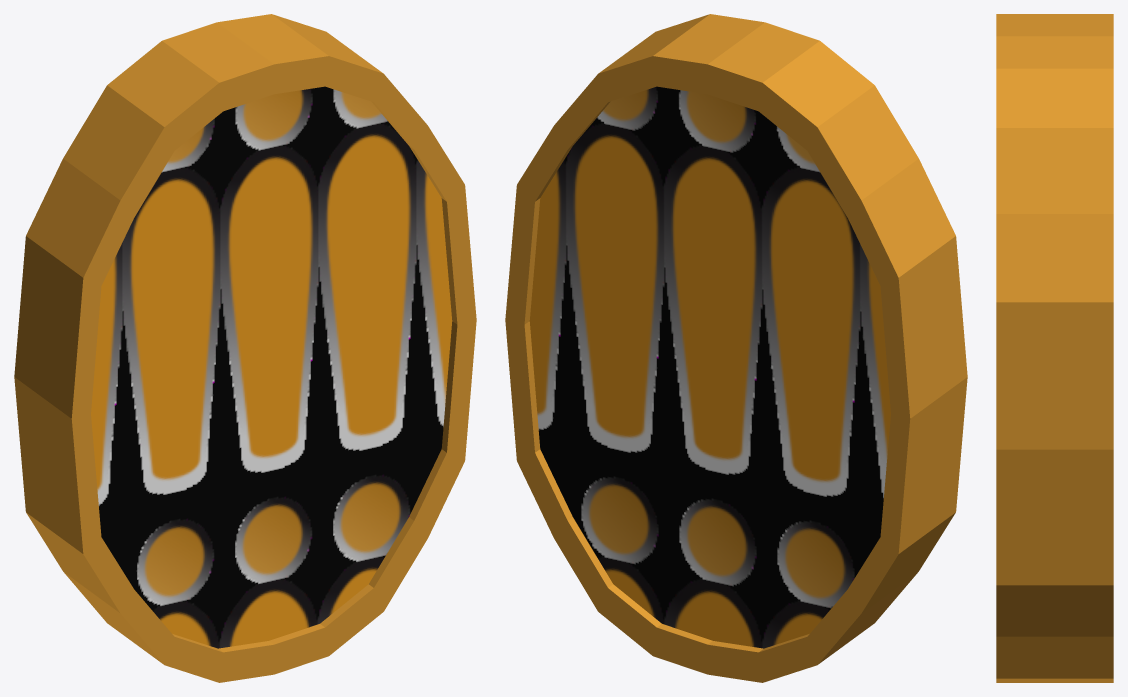
Rendered from coin2.glb.
3 views of the same model, side by side, from view 1: azimuth 30°, elevation 25°; view 2: azimuth 150°, elevation 25°; view 3: azimuth 270°, elevation 25° (orthographic). The views are drawn at different scales.
Visible parts, largest first — view 1: Cube; view 2: Cube; view 3: Cube.
Part boxes in pixels (x1,y1,x2,y2): Cube: (14,14,476,682); Cube: (505,14,967,682); Cube: (996,14,1113,682).
Size of the model in its own units: 0.6202 by 0.8933 by 0.1524.
1 material, 1 textured.
